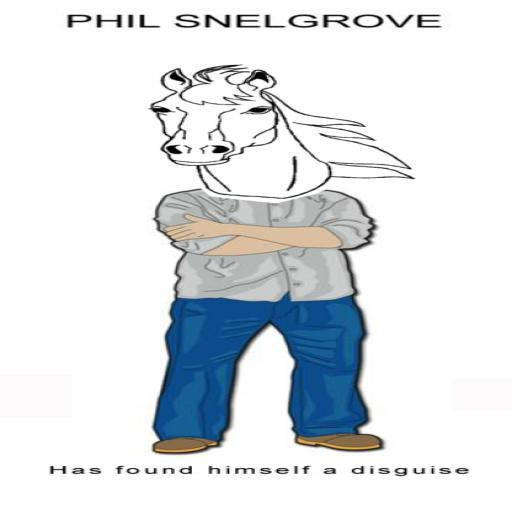horse: (144, 62, 416, 205)
